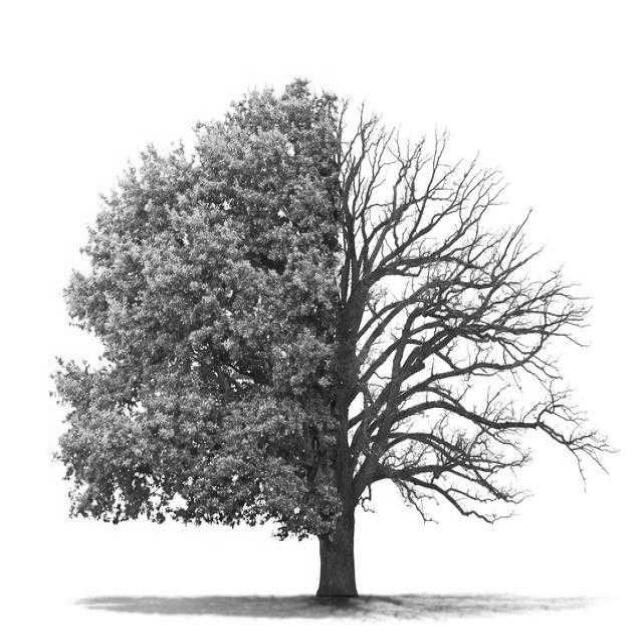Tree: (58, 81, 606, 597)
